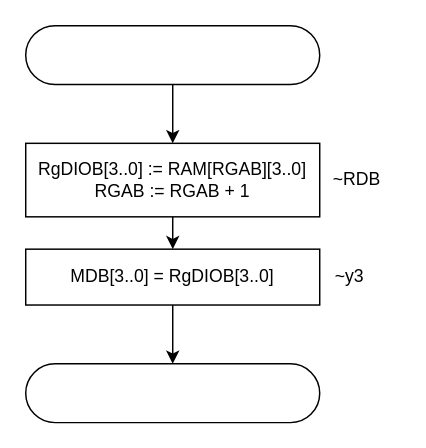
The diagram is 426 pixels wide and 448 high, and some of its shapes have lost their labels. Here are the shapes that lost their labels. From the top down, the box of each, then its label:
(24, 24, 320, 85): Начало POP
(24, 362, 320, 423): Конец POP
